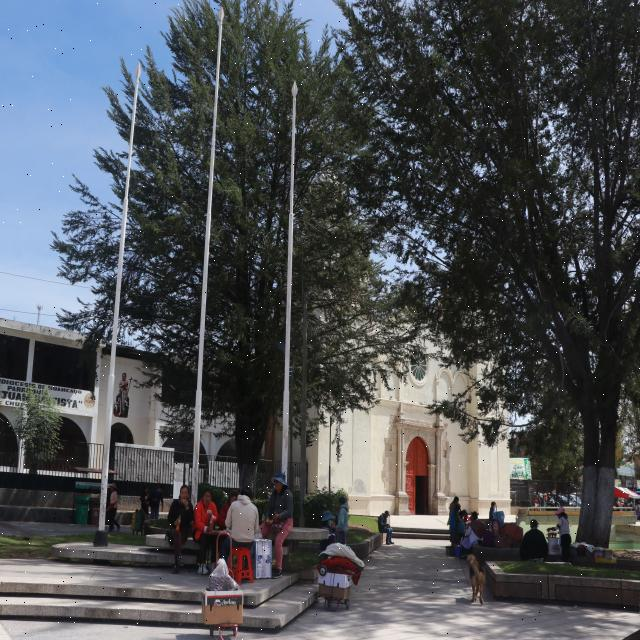PORTADA CENTRAL: (395, 411, 439, 513)
SIMETRIA COLONIAL: (312, 169, 530, 519)
colonial-architecture-: (303, 164, 576, 521)
